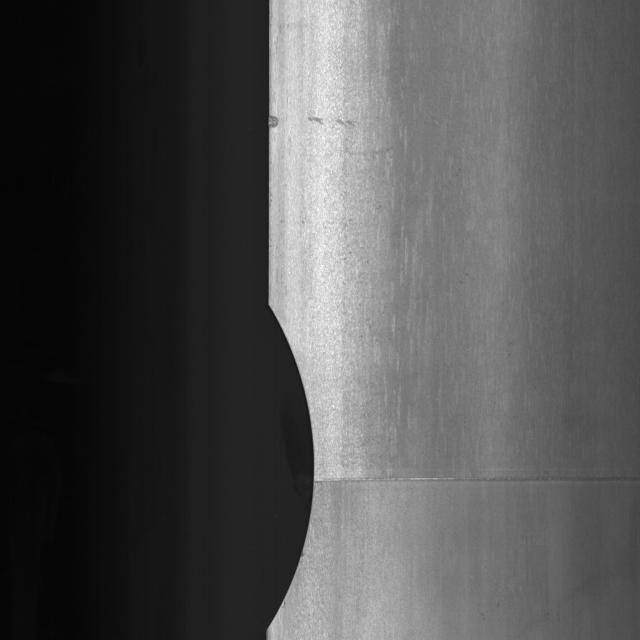crease: (312, 468, 640, 518)
silk_spot: (251, 286, 320, 639)
